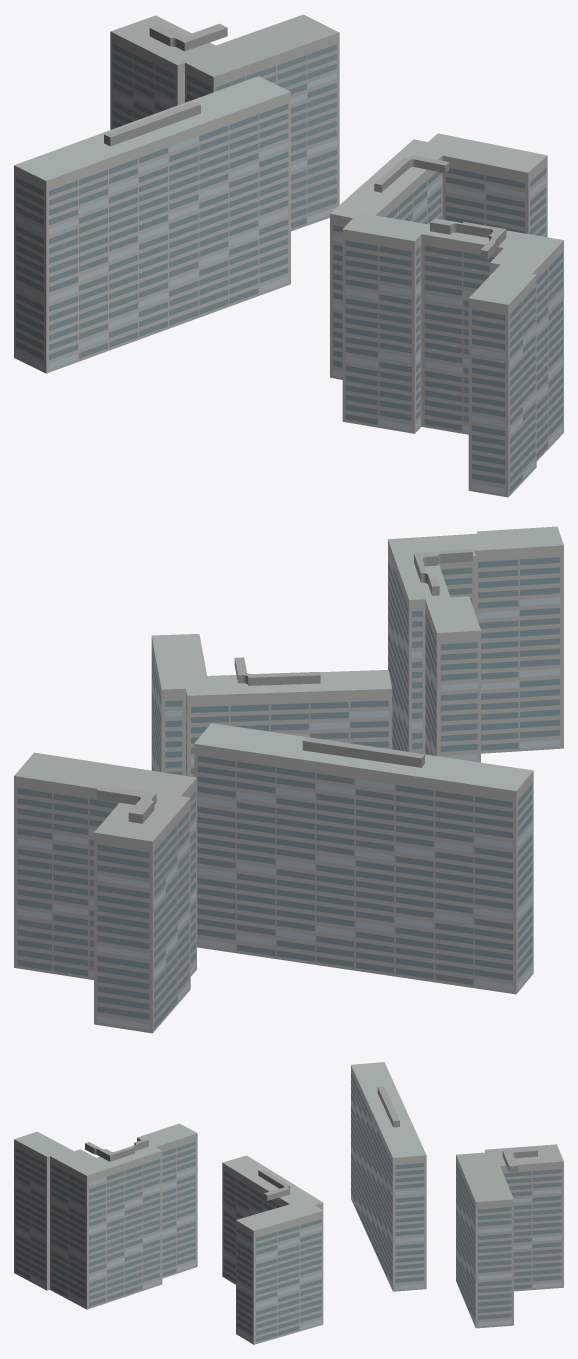
Rendered from apt-a12072802.glb.
The picture shows the model from 3 angles, top to bottom: view 1: azimuth 30°, elevation 25°; view 2: azimuth 150°, elevation 25°; view 3: azimuth 270°, elevation 25°; orthographic projection. The views are drawn at different scales.
Parts seen in each view (by area): view 1: apt-a12072802; view 2: apt-a12072802; view 3: apt-a12072802.
Boxes of the visible parts, x1,y1,x2,y2 form: apt-a12072802: [14, 14, 563, 497]; apt-a12072802: [14, 526, 563, 1033]; apt-a12072802: [14, 1062, 563, 1344].
Bounding box in the file's own units: 123 × 54 × 192.
